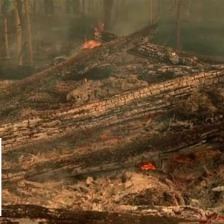incendio: (79, 14, 107, 60), (124, 160, 167, 176)
